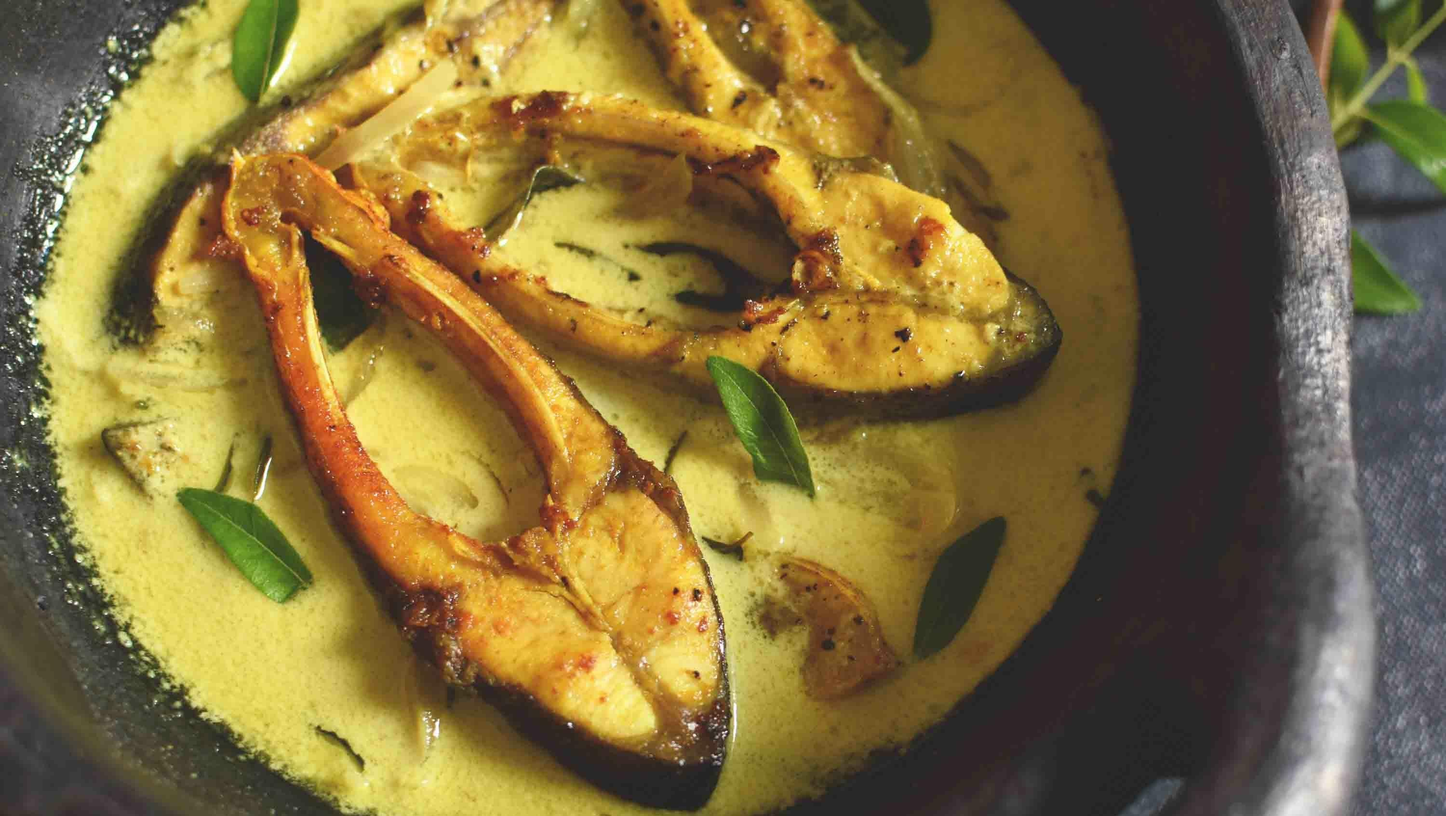FishCurry: (39, 0, 1143, 816)
